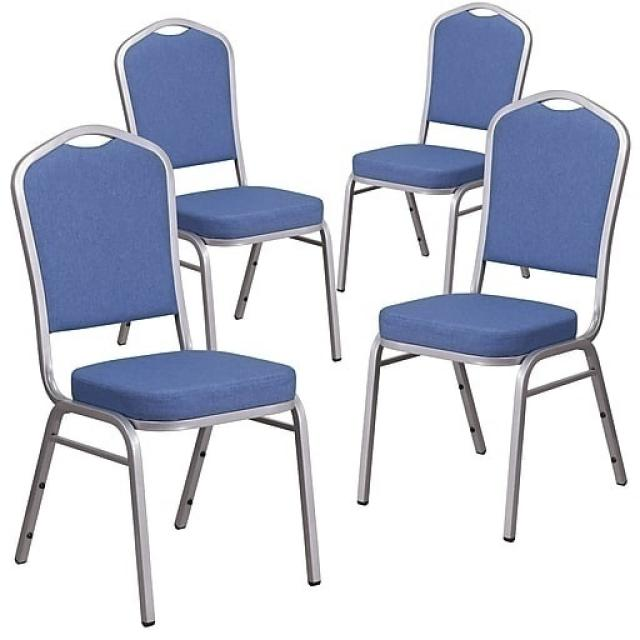Chair: (8, 123, 328, 632), (359, 86, 640, 550), (110, 14, 352, 370), (358, 4, 546, 308)
